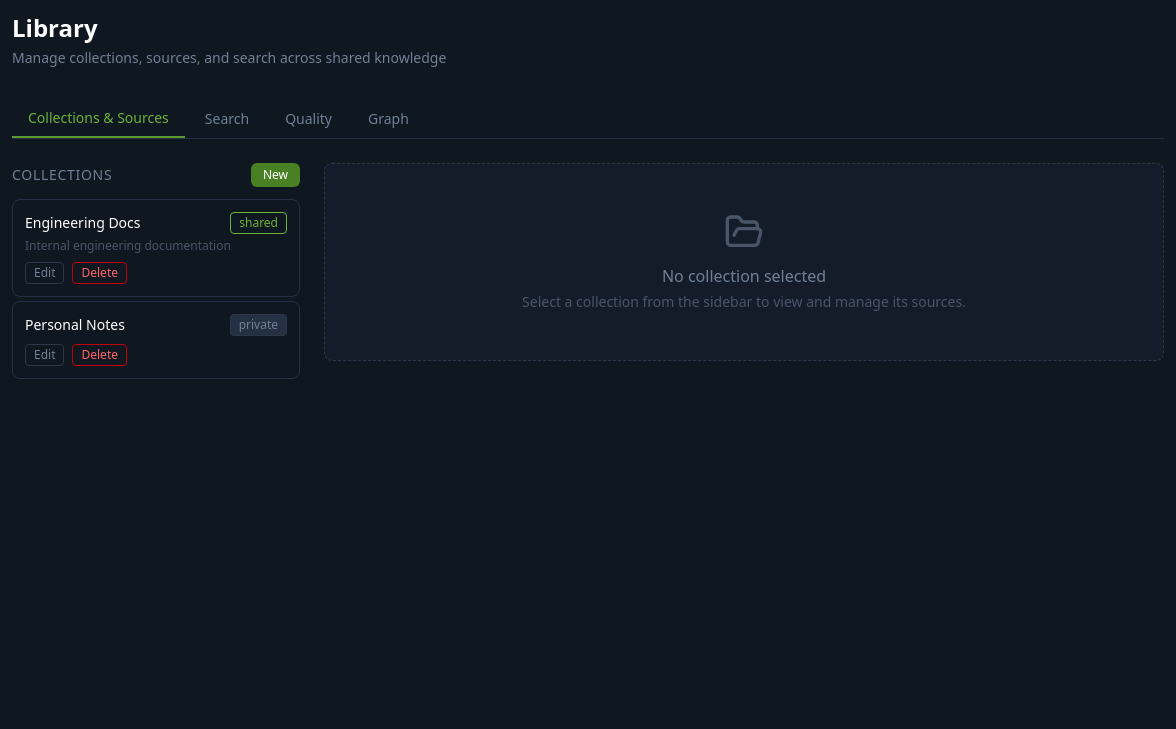
Scenario: SharedKnowledgeClient › shows add source form with type selector
Click the text "Engineering Docs".
click(83, 223)  # box top-left (25, 213), bottom-right (140, 233)
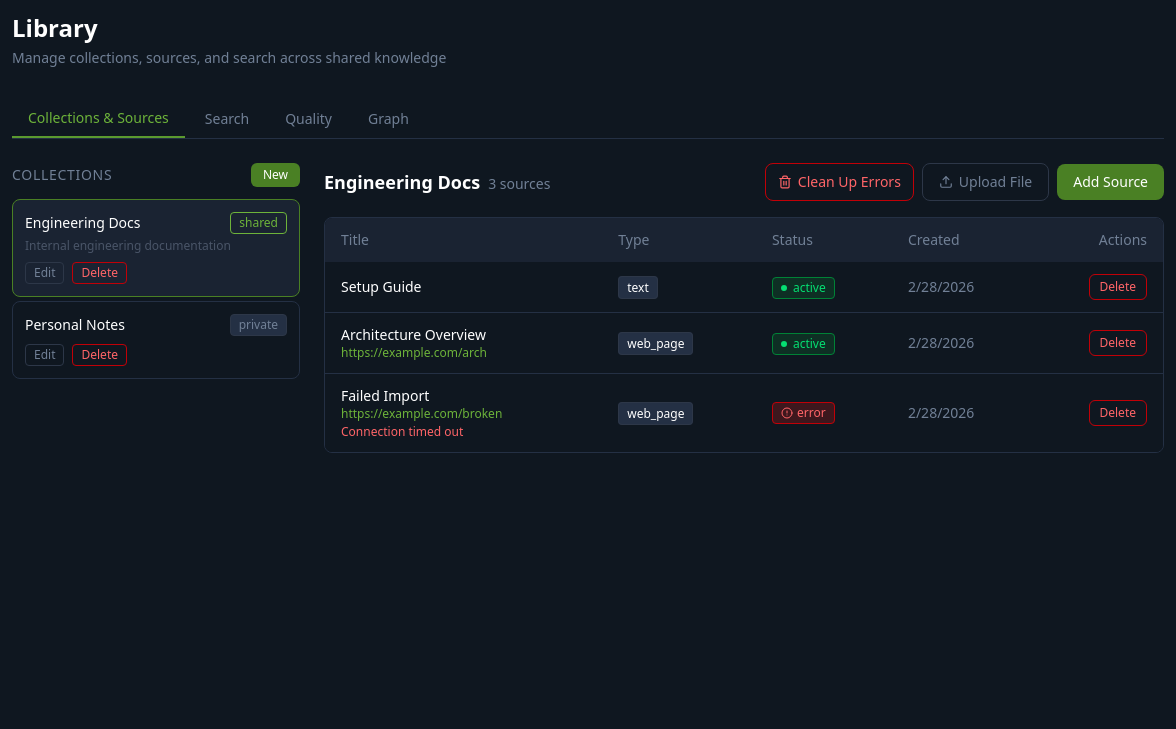
Expected: the button "Add Source" is shown
Click the button "Add Source".
click(1111, 182)  # box top-left (1057, 164), bottom-right (1164, 200)
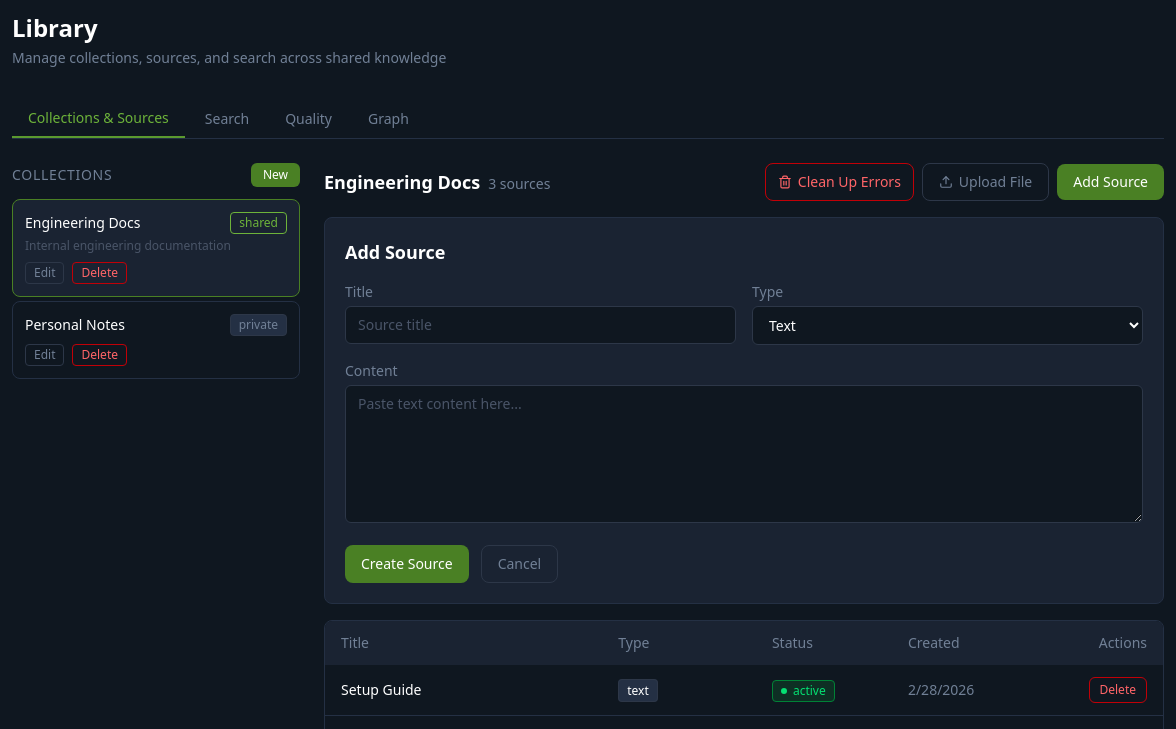
Expected: the field with placeholder "Source title" is shown, top-left (345, 306), bottom-right (736, 344)
Expected: the dropdown is shown, top-left (752, 306), bottom-right (1143, 345)
